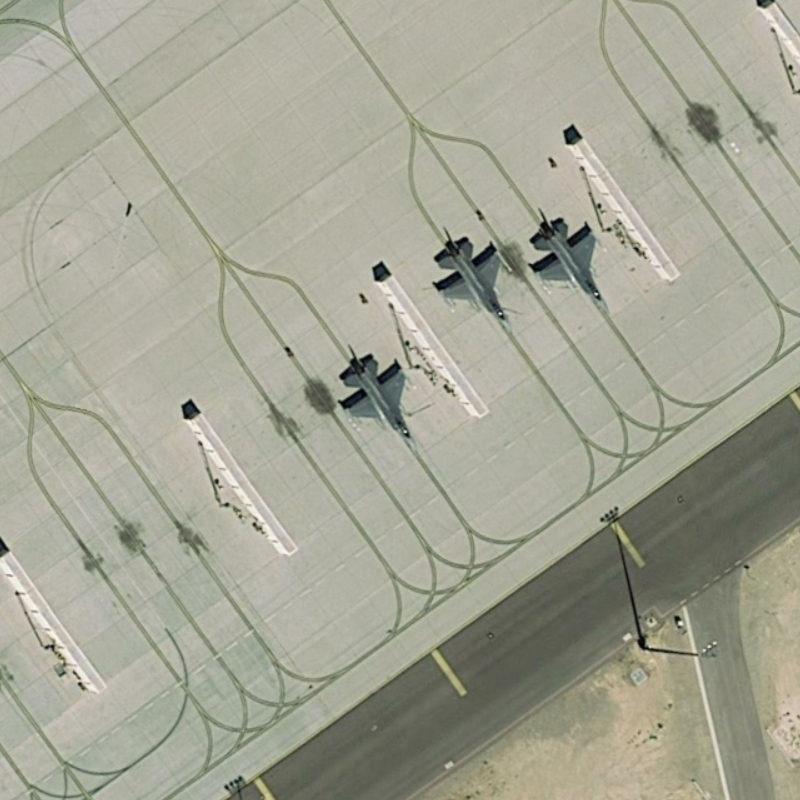A5: (333, 352, 423, 460), (428, 226, 512, 339), (527, 216, 615, 315)
